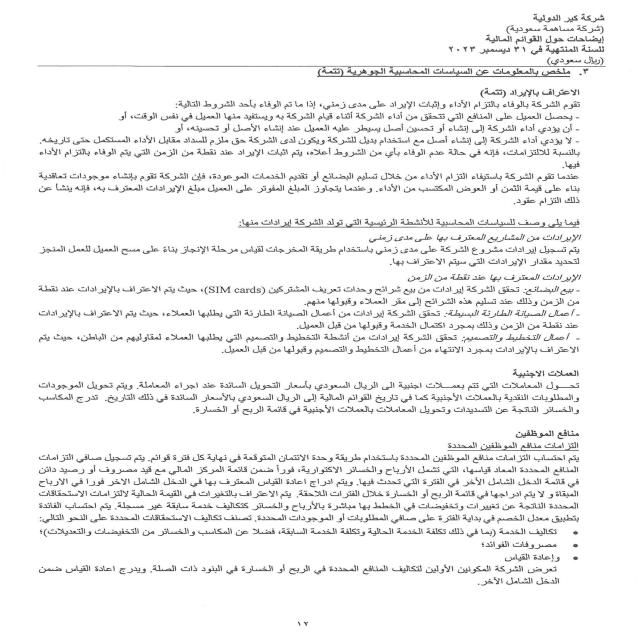notes: (471, 34, 606, 45)
text: (6, 65, 602, 595)
